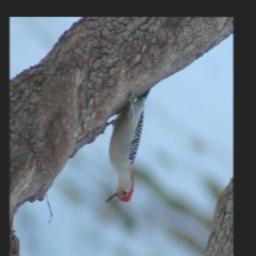Woodpecker: (104, 86, 152, 206)
